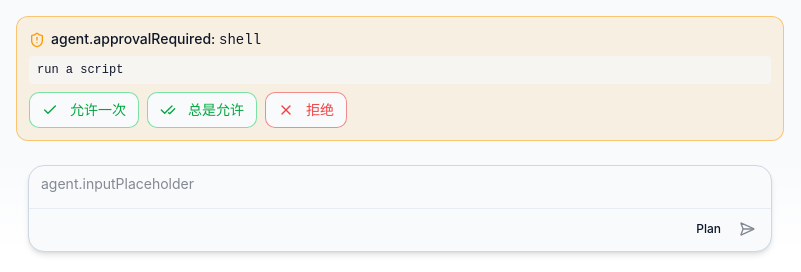
Test: ChatStream running state › renders ACP permission options and returns selected option_id
expect the button "允许一次" is shown: met, box [29, 92, 139, 128]
expect the button "拒绝" is shown: met, box [265, 92, 347, 128]
Click the button "总是允许". click: (202, 110)
box: [147, 92, 257, 128]
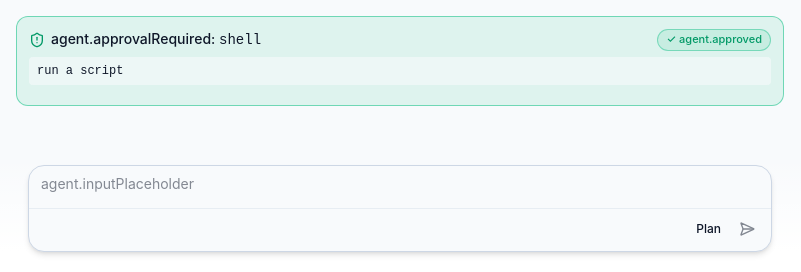
expect the text "✓ agent.approved" is shown: met, box [657, 29, 771, 51]
